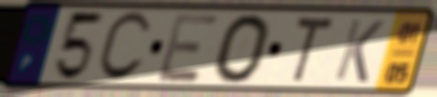5: (52, 9, 106, 83)
C: (93, 9, 154, 85)
E: (155, 12, 223, 85)
K: (331, 17, 387, 86)
O: (211, 12, 274, 86)
T: (291, 14, 337, 87)
